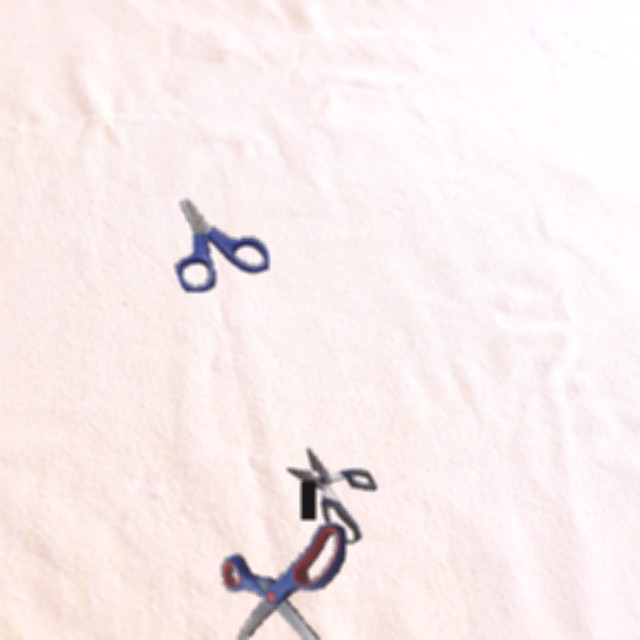scissors: (221, 521, 346, 640), (175, 198, 269, 292), (287, 447, 377, 544)
